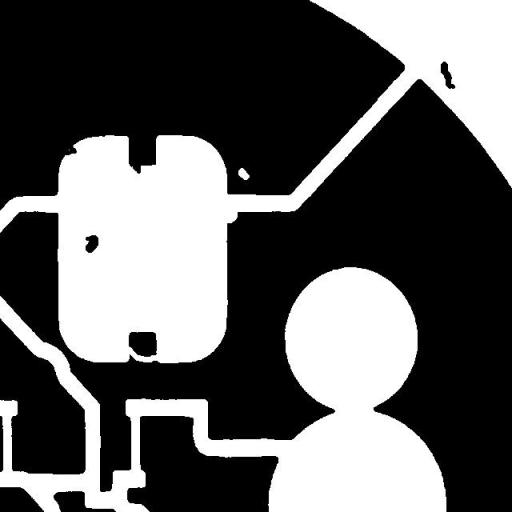copper: (433, 54, 462, 96), (78, 227, 106, 260)
mousebite: (215, 200, 245, 230)
open: (120, 339, 166, 370)
pin-hole: (230, 160, 257, 187)
spur: (122, 150, 148, 180), (55, 138, 84, 162)
